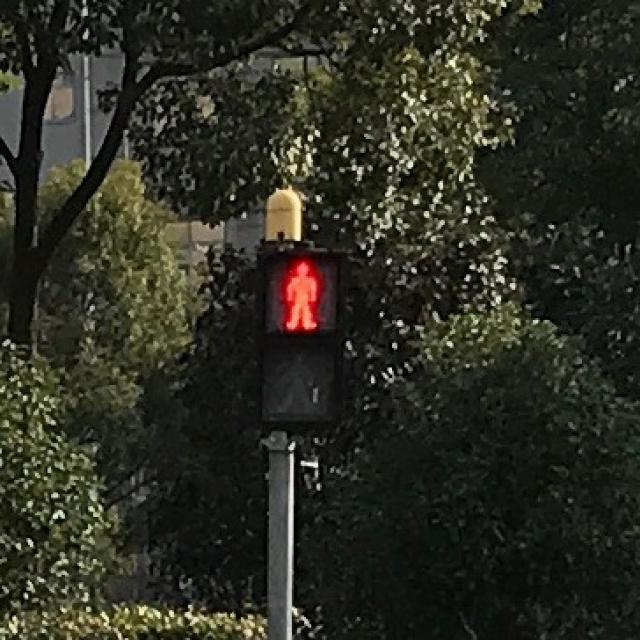red-crossing: (280, 250, 326, 328)
